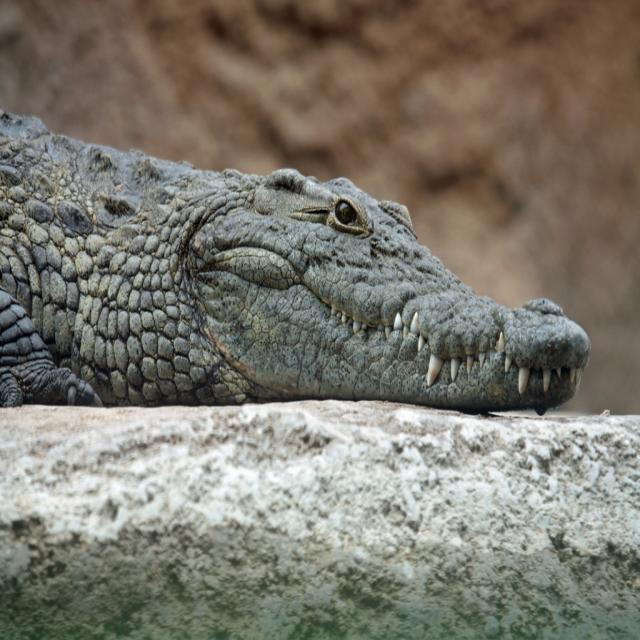crocodile: (0, 77, 609, 429)
